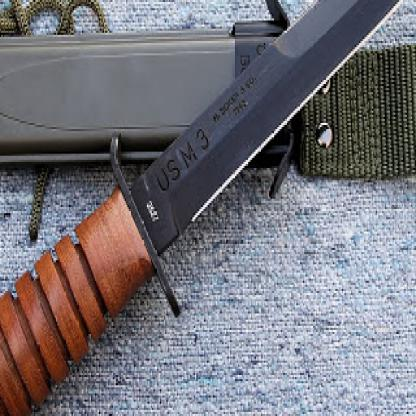knife: (125, 0, 415, 258)
